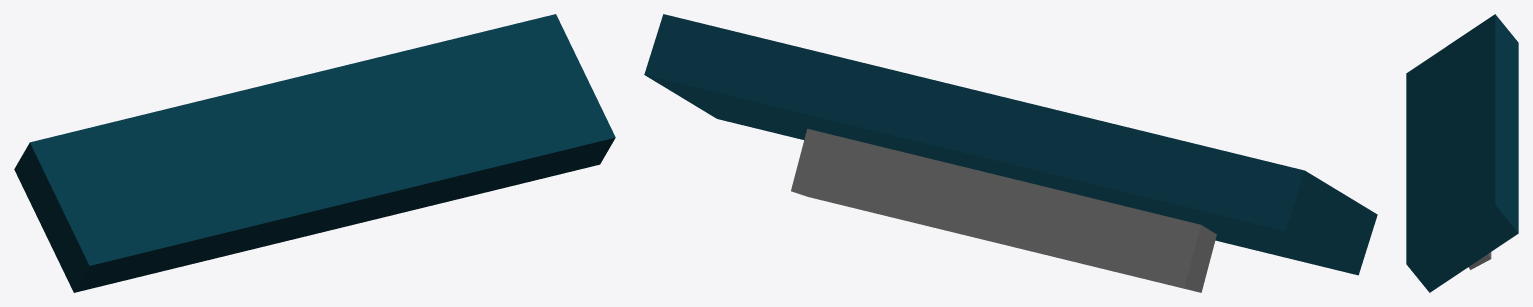
File: Solarpanel.fbx
3 renders of one model, left to right at view 1: azimuth 30°, elevation 25°; view 2: azimuth 150°, elevation 25°; view 3: azimuth 270°, elevation 25°, orthographic. The views are drawn at different scales.
Visible parts, largest first — view 1: Cube; view 2: Cube, Cube.001; view 3: Cube, Cube.001.
Part boxes in pixels (x1=…): Cube: x1=14, y1=14, x2=615, y2=292; Cube: x1=644, y1=14, x2=1377, y2=275; Cube.001: x1=791, y1=129, x2=1216, y2=292; Cube: x1=1406, y1=14, x2=1518, y2=292; Cube.001: x1=1468, y1=252, x2=1491, y2=269.
Size of the model in its own units: 600 by 150 by 149.
